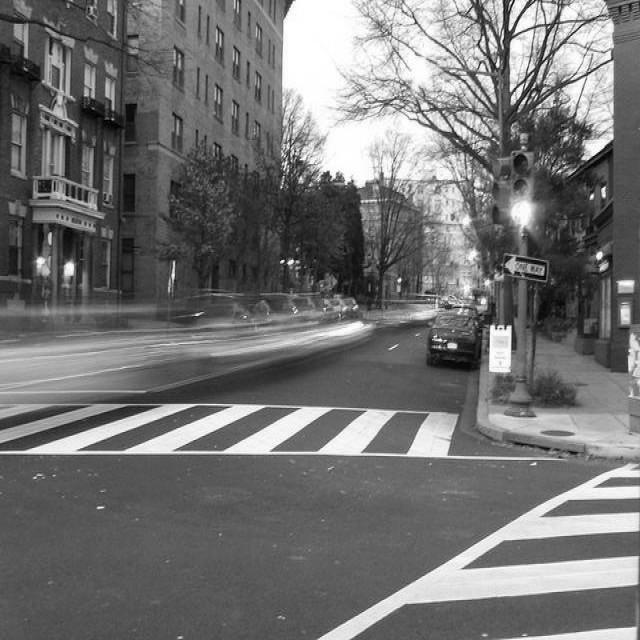vehicle: (426, 304, 484, 371), (251, 299, 299, 313), (323, 299, 349, 321), (291, 296, 319, 314), (226, 307, 250, 323), (342, 297, 358, 313)
